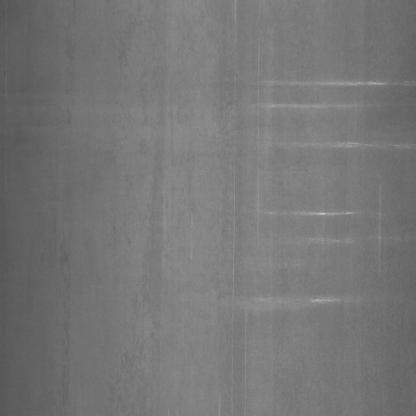waist_folding: (240, 42, 411, 347)
